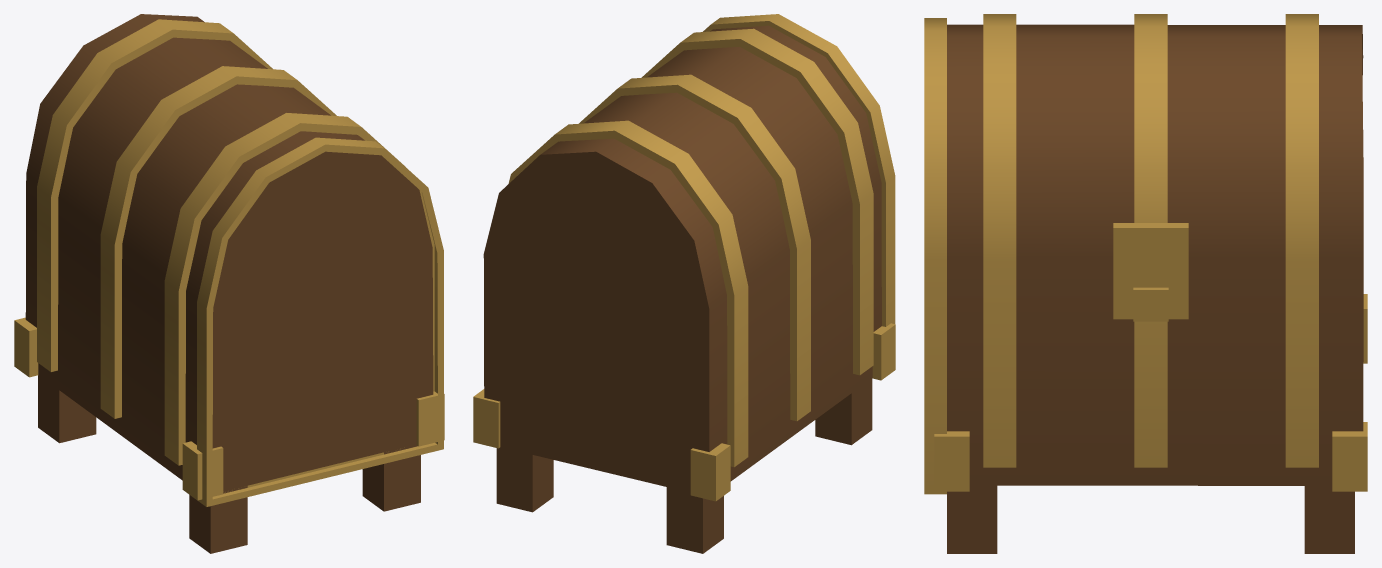
File: chest-0.glb
The picture shows the model from 3 angles, left to right: view 1: azimuth 30°, elevation 25°; view 2: azimuth 150°, elevation 25°; view 3: azimuth 270°, elevation 25°; orthographic projection. The views are drawn at different scales.
Visible parts, largest first — view 1: chest-0; view 2: chest-0; view 3: chest-0.
Boxes of the visible parts, box(x1,y1,x2,y2) form: chest-0: box(14, 14, 444, 553); chest-0: box(473, 14, 895, 553); chest-0: box(924, 14, 1367, 553).
Size of the model in its own units: 0.7076 by 1.05 by 0.9052.
